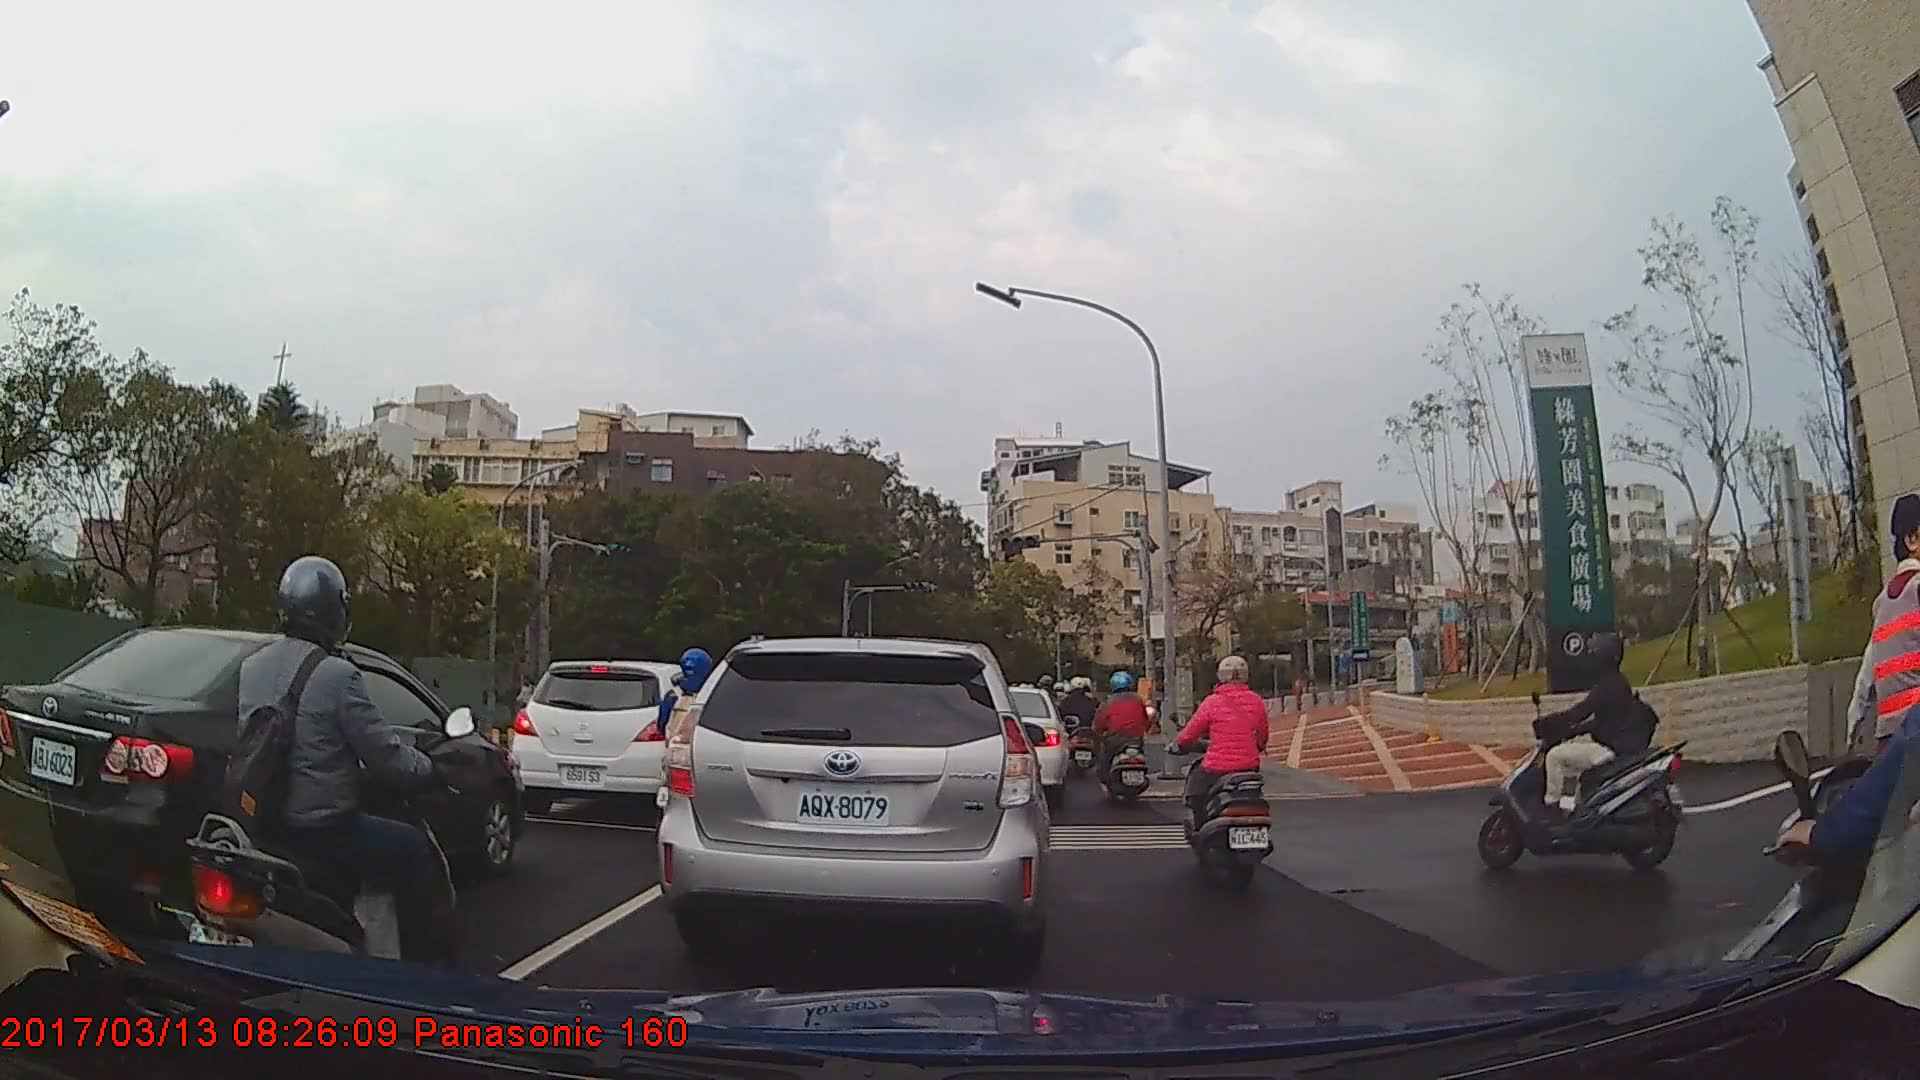pedestrian: (517, 674, 537, 730)
rider: (182, 552, 470, 1031), (1479, 643, 1688, 871), (1171, 652, 1274, 884), (657, 642, 722, 855), (1094, 668, 1158, 818), (1064, 674, 1104, 780)
vehicle: (0, 624, 522, 931), (657, 635, 1054, 956), (508, 659, 726, 817), (962, 685, 1070, 802)
